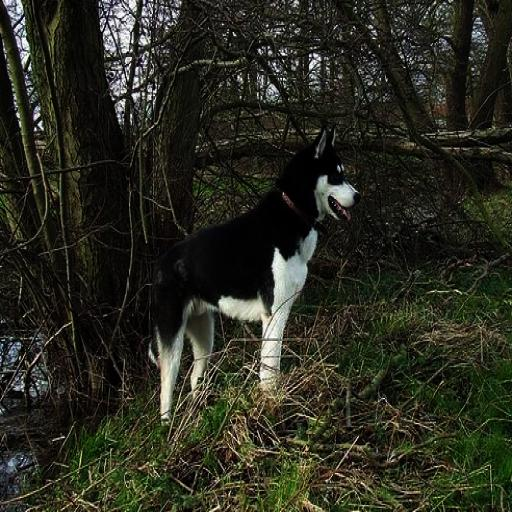dog_face: (310, 118, 363, 223)
